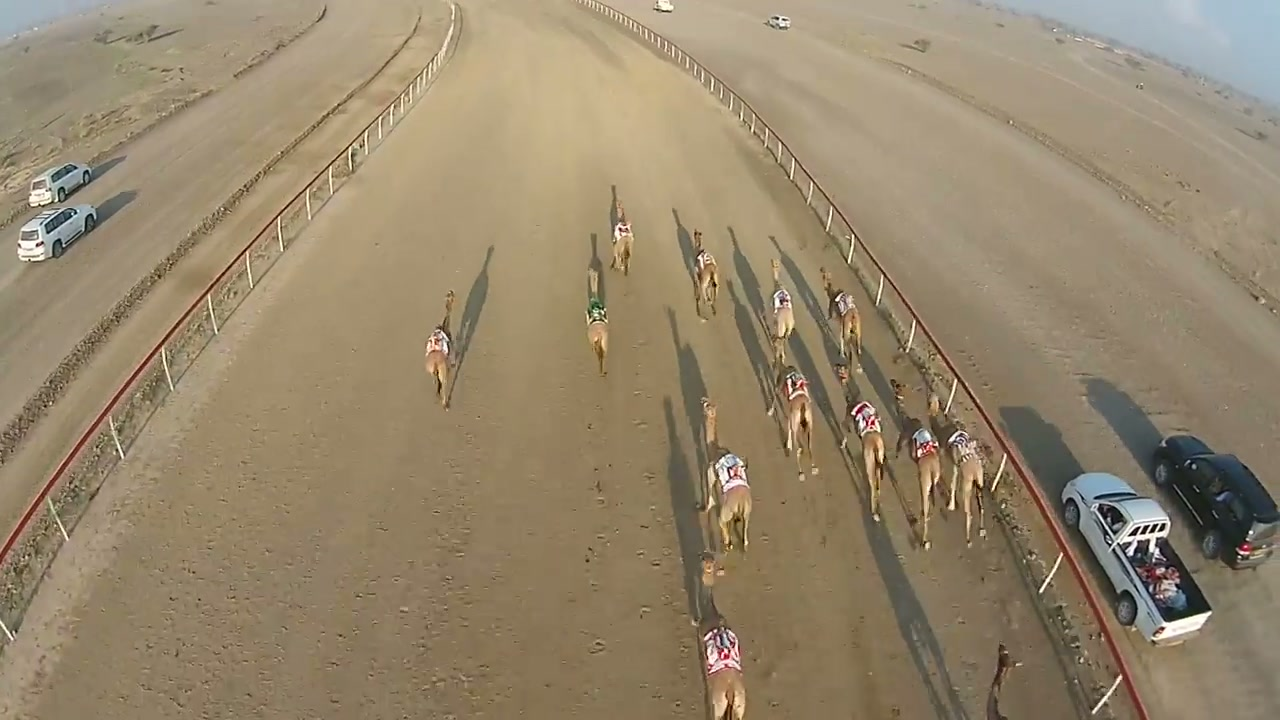animal_footprint: (315, 284, 702, 719)
